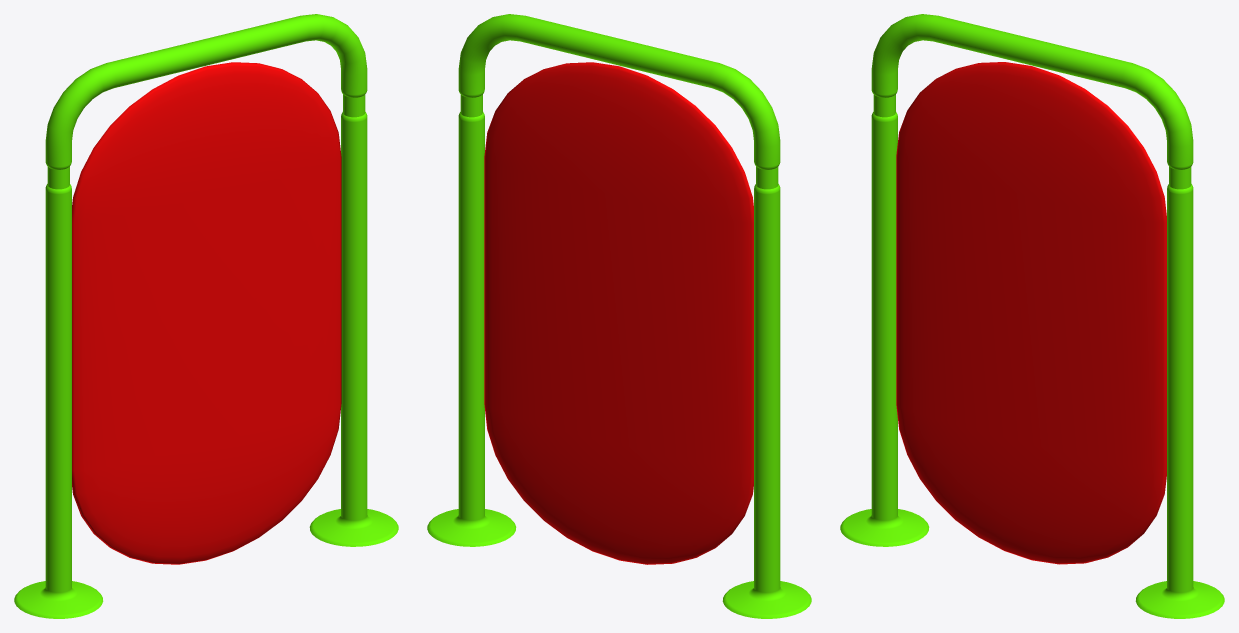
Rendered from GateNegative.fbx.
The picture shows the model from 3 angles, left to right: view 1: azimuth 30°, elevation 25°; view 2: azimuth 150°, elevation 25°; view 3: azimuth 330°, elevation 25°; orthographic projection.
Parts seen in each view (by area): view 1: Red, Pipe_a; view 2: Red, Pipe_a; view 3: Red, Pipe_a.
Boxes of the visible parts, x1=… form: Red: x1=72, y1=62, x2=341, y2=564; Pipe_a: x1=14, y1=14, x2=398, y2=618; Red: x1=484, y1=62, x2=753, y2=564; Pipe_a: x1=427, y1=14, x2=811, y2=618; Red: x1=896, y1=62, x2=1166, y2=564; Pipe_a: x1=840, y1=14, x2=1224, y2=618.
Bounding box in the file's own units: 1367 × 1836 × 283.
